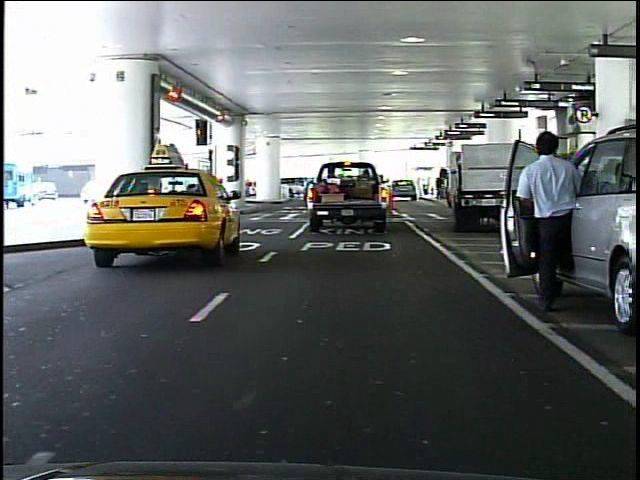person: (516, 126, 585, 314), (213, 168, 232, 213)
